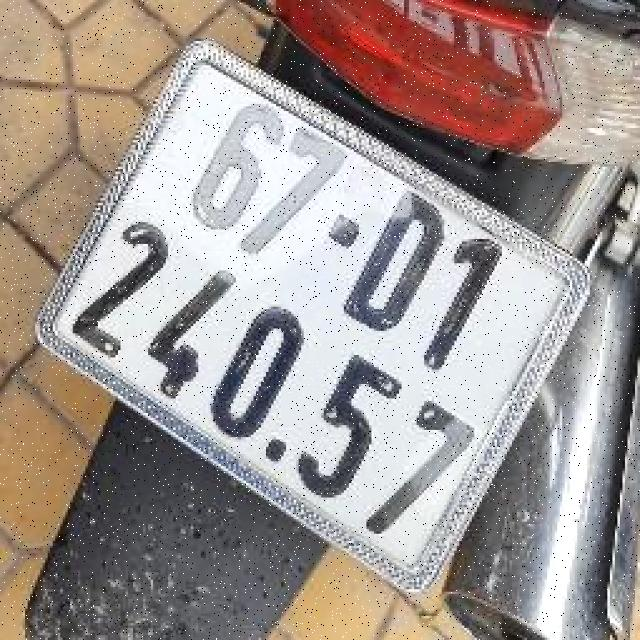0: (192, 297, 321, 460)
1: (399, 227, 514, 397)
2: (34, 193, 179, 370)
4: (127, 238, 258, 419)
5: (278, 334, 420, 518)
7: (352, 391, 487, 569), (165, 89, 303, 248), (227, 122, 367, 272)
D: (332, 181, 471, 356)
